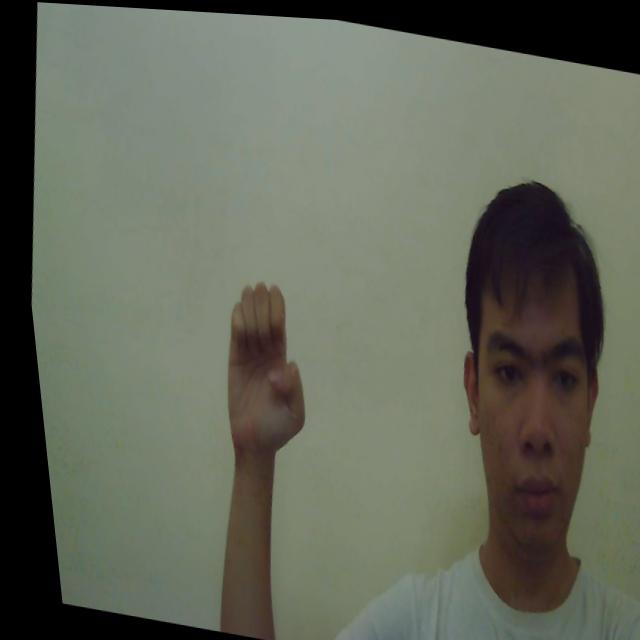E: (202, 273, 317, 461)
